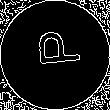P_W: (28, 34, 82, 76)
